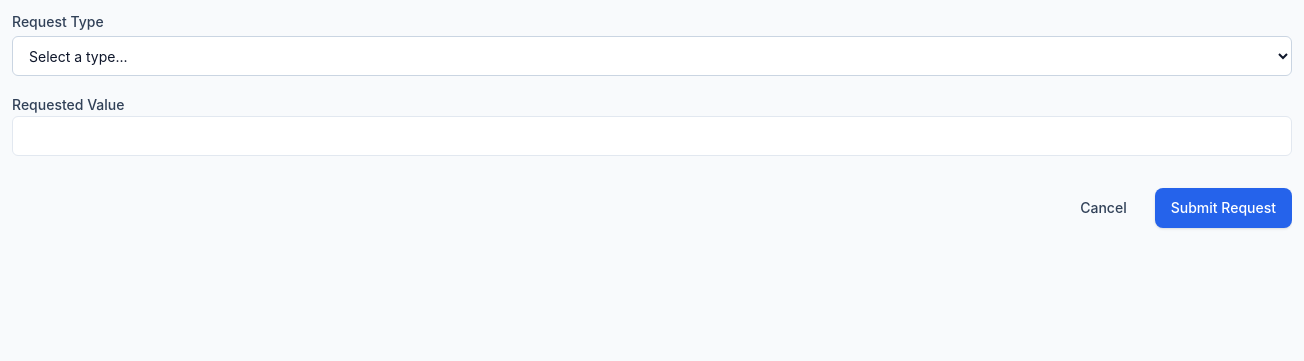
CreateRequestForm Component › fetches balance when request type is selected
The image size is (1304, 361).
// Select a type
Select "Hardware" in the dropdown at (652, 56), box [12,36,1292,76]
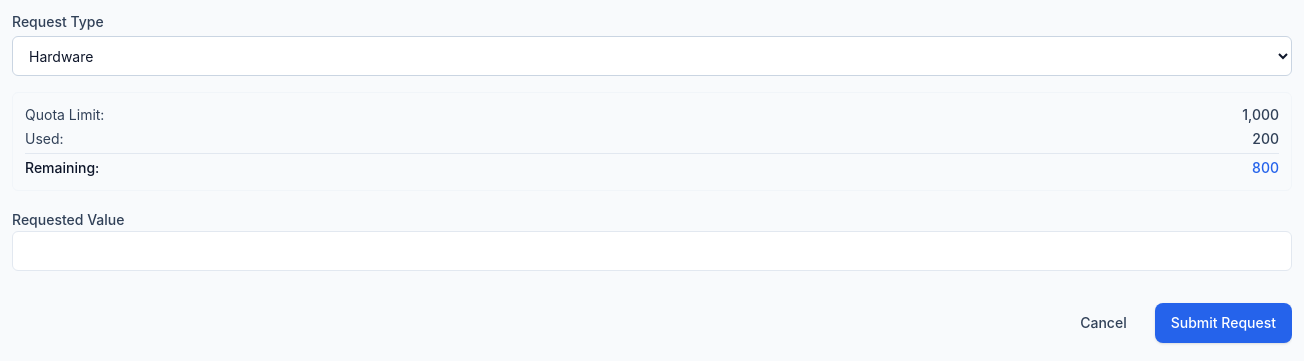
expect the text "Quota Limit:" is shown: met, box [25,105,104,125]
expect the text "1,000" is shown: met, box [1242,105,1279,125]
expect the text "800" is shown: met, box [1252,158,1279,178]
